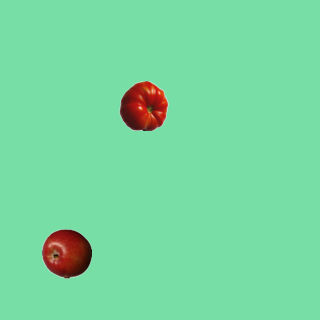Apple Braeburn: (41, 228, 91, 278)
Tomato 3: (118, 80, 168, 130)
